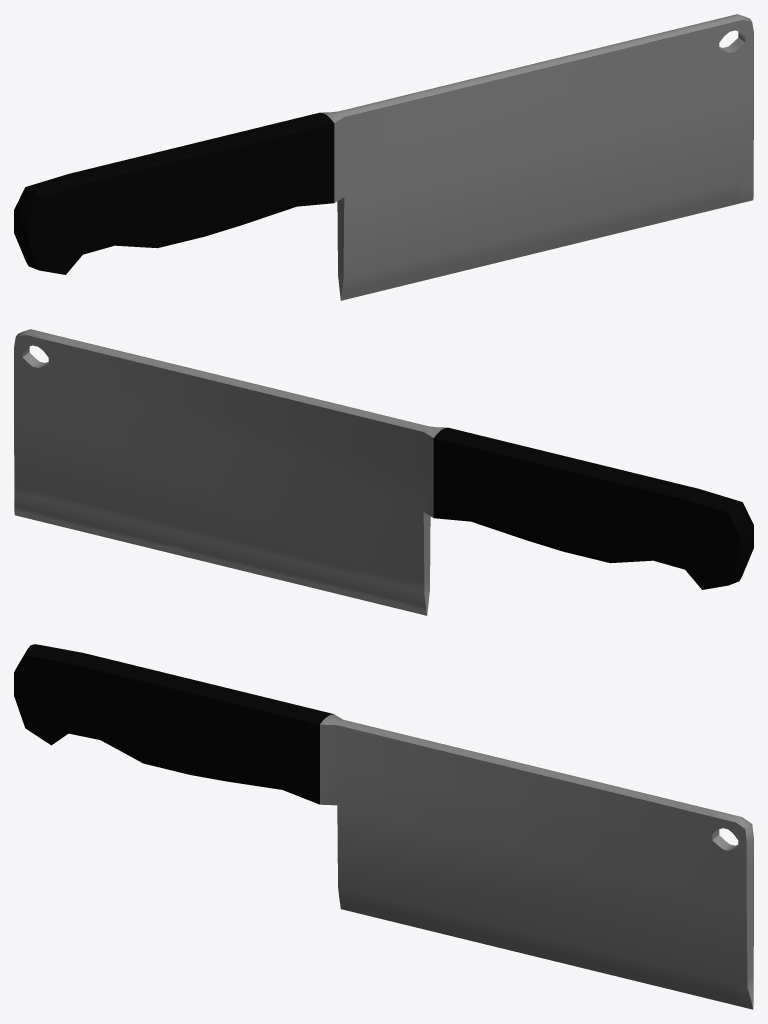
Rendered from CHOP.FBX.
The picture shows the model from 3 angles, top to bottom: view 1: azimuth 30°, elevation 25°; view 2: azimuth 150°, elevation 25°; view 3: azimuth 330°, elevation 25°; orthographic projection.
Parts seen in each view (by area): view 1: Box001; view 2: Box001; view 3: Box001.
Part boxes in pixels (<box>): Box001: <box>14,14,753,300</box>; Box001: <box>14,329,753,615</box>; Box001: <box>14,644,753,1009</box>.
Size of the model in its own units: 70.34 by 17.25 by 2.37.
Materials: 1 (1 with a texture image).
